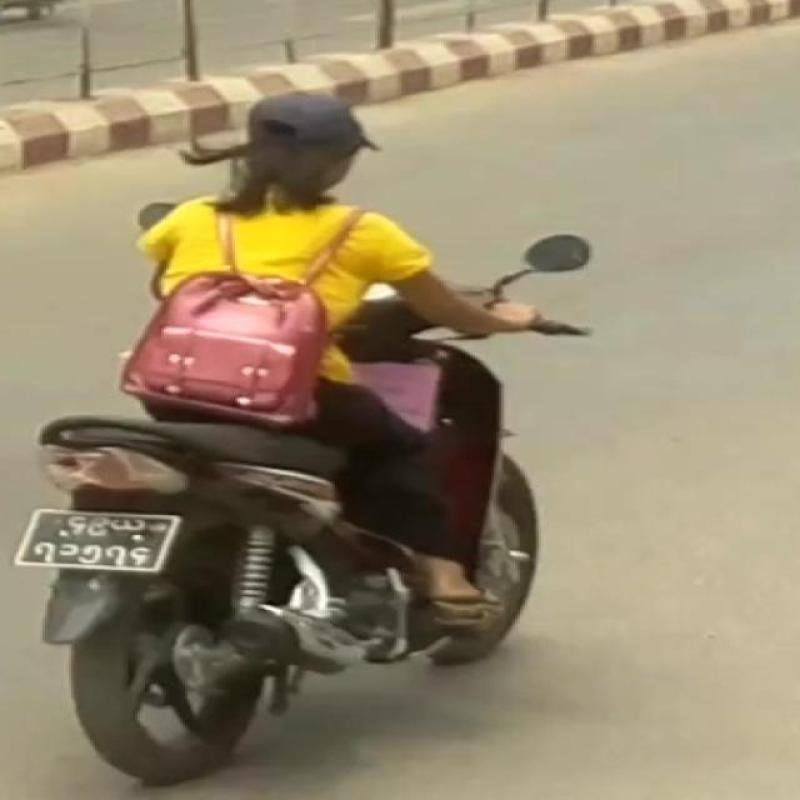nohelmet: (208, 85, 431, 189)
